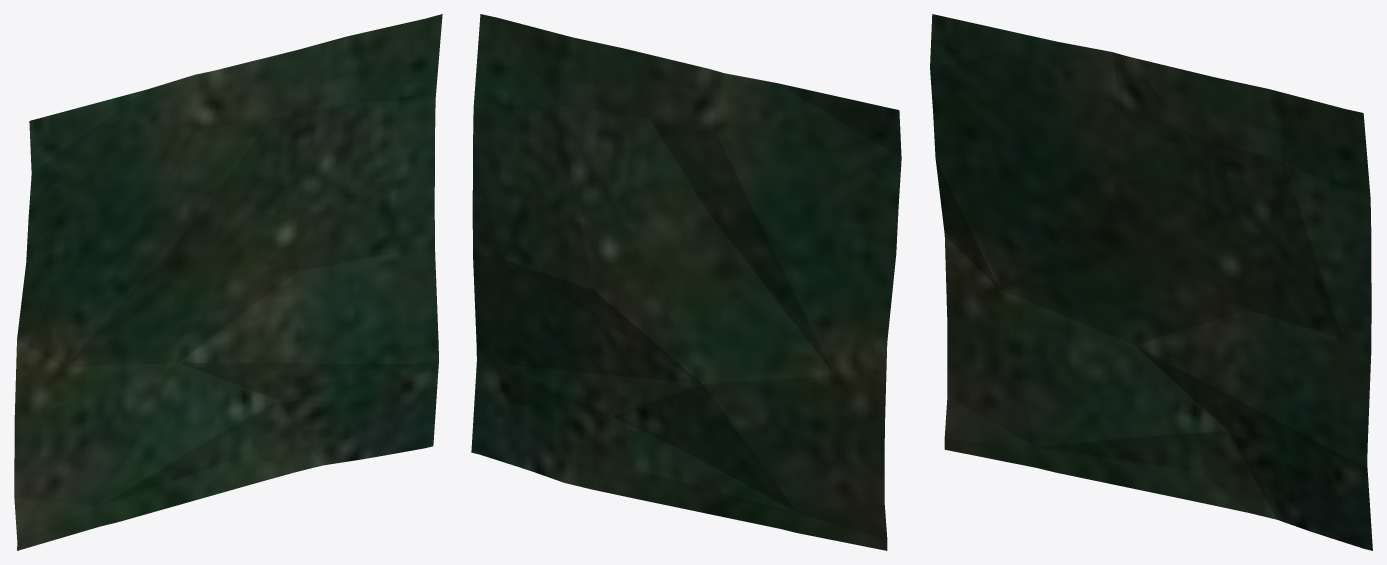
Rendered from Tile_+001_+006_L24_0010302.obj.
3 views of the same model, side by side, from view 1: azimuth 30°, elevation 25°; view 2: azimuth 150°, elevation 25°; view 3: azimuth 330°, elevation 25° (orthographic). The views are drawn at different scales.
Bounding box in the file's own units: 0.9531 × 0.9531 × 0.1075.
1 material, 1 textured.
